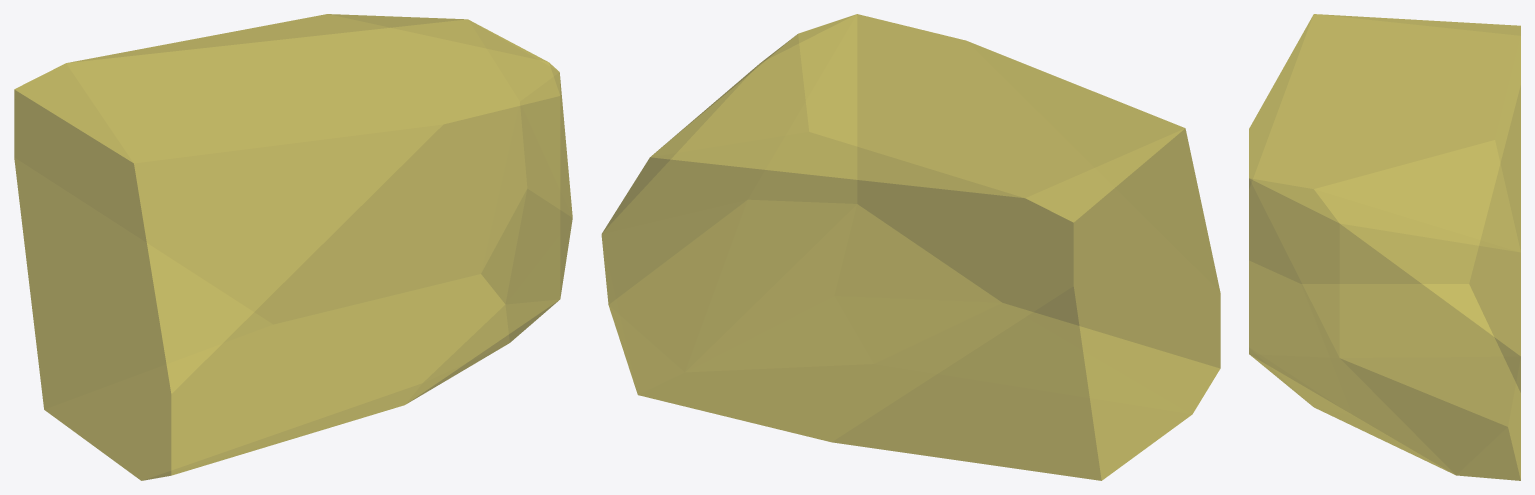
The picture shows the model from 3 angles, left to right: view 1: azimuth 30°, elevation 25°; view 2: azimuth 150°, elevation 25°; view 3: azimuth 270°, elevation 25°; orthographic projection. The views are drawn at different scales.
Visible parts, largest first — view 1: Shape_IndexedFaceSet.117_Shape_IndexedFaceSet.4671; view 2: Shape_IndexedFaceSet.117_Shape_IndexedFaceSet.4671; view 3: Shape_IndexedFaceSet.117_Shape_IndexedFaceSet.4671.
Part boxes in pixels (box(x1,y1,x2,y2)): Shape_IndexedFaceSet.117_Shape_IndexedFaceSet.4671: box(14, 14, 572, 480); Shape_IndexedFaceSet.117_Shape_IndexedFaceSet.4671: box(601, 14, 1220, 480); Shape_IndexedFaceSet.117_Shape_IndexedFaceSet.4671: box(1249, 14, 1520, 480).
Bounding box in the file's own units: 0.0592 × 0.0349 × 0.0319.
